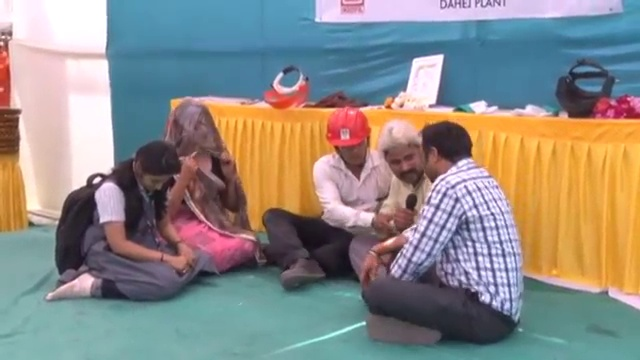helmet: (323, 109, 377, 153)
helmet_off: (418, 121, 476, 186), (379, 118, 427, 188), (127, 139, 180, 198), (167, 101, 218, 161)
helmet_on: (323, 108, 374, 174)
person: (344, 113, 524, 342), (49, 135, 200, 304), (252, 104, 395, 277), (152, 97, 257, 283), (350, 121, 441, 281)
